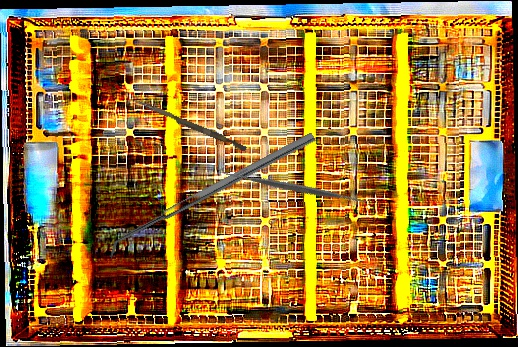Pusher: (131, 98, 249, 152)
Spatula Surgical: (102, 132, 321, 260), (220, 112, 371, 263)
